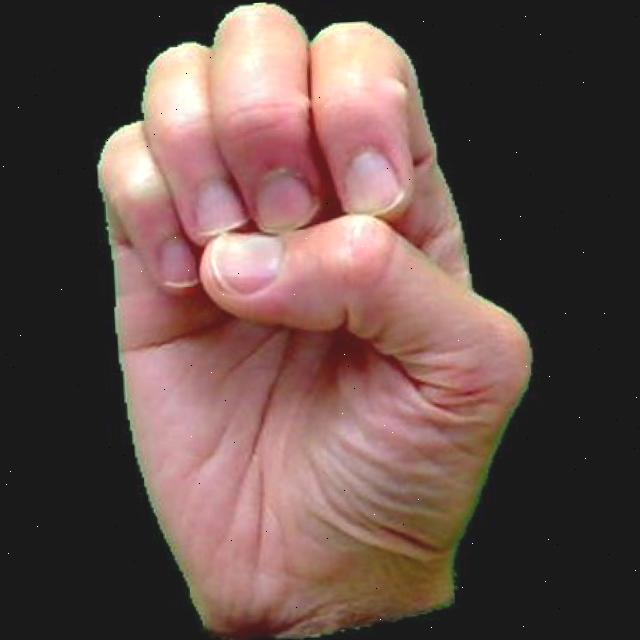e: (71, 0, 552, 640)
